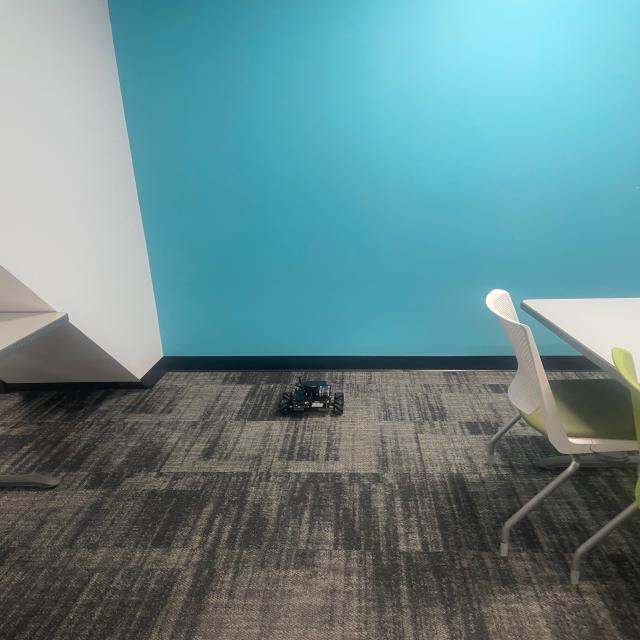ArduinoCar: (275, 378, 350, 419)
